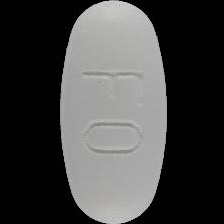68382-230: (0, 0, 224, 224)
